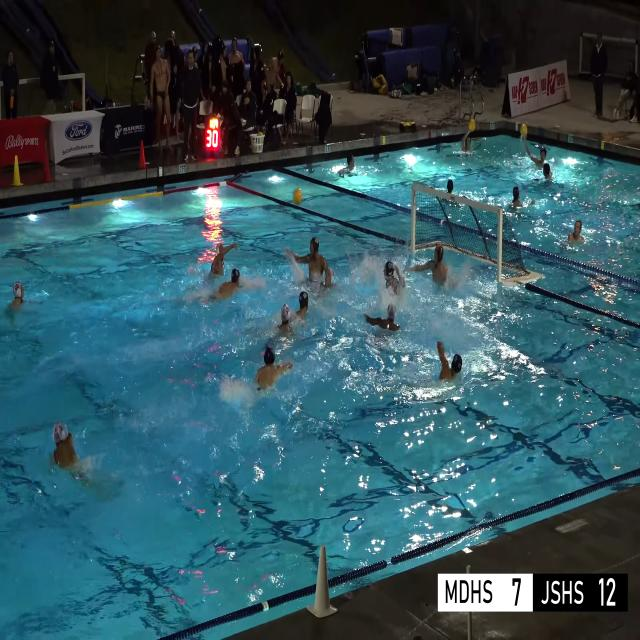ball: (293, 188, 302, 205), (520, 123, 527, 137), (469, 118, 475, 132), (257, 131, 263, 136)
